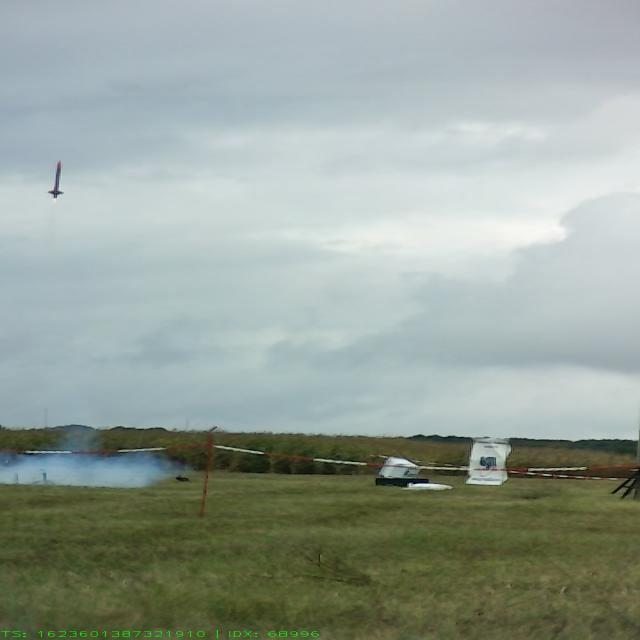Rocket: (47, 160, 65, 198)
